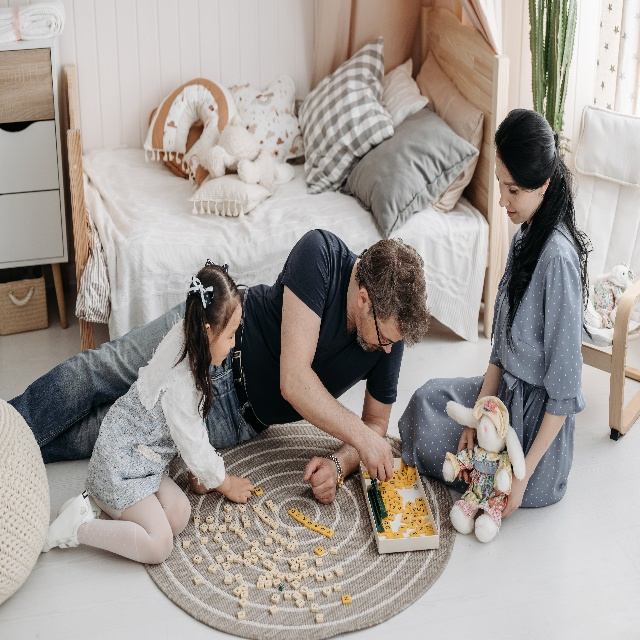Gafas: (370, 300, 392, 347)
Sin_guantes: (356, 424, 395, 483), (488, 470, 527, 519), (303, 456, 338, 505), (456, 425, 477, 484), (226, 475, 254, 504)
